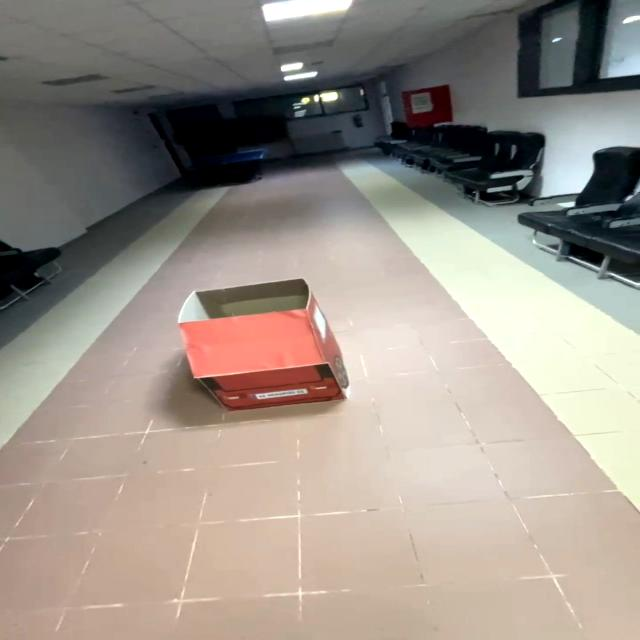red_car: (132, 262, 429, 440)
